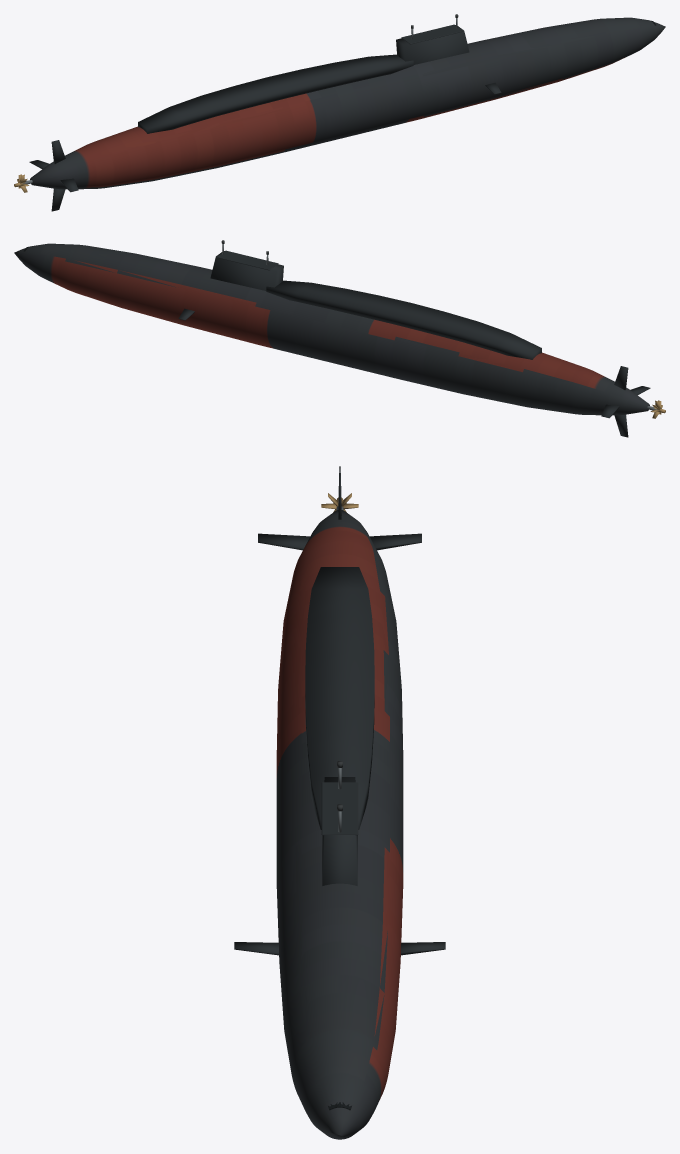
File: RU_SSBN_DeltaI_LOD2.fbx
3 views of the same model, one above another, from view 1: azimuth 30°, elevation 25°; view 2: azimuth 150°, elevation 25°; view 3: azimuth 270°, elevation 25° (orthographic). The views are drawn at different scales.
Parts seen in each view (by area): view 1: RU_SSBN_DeltaI_LOD2; view 2: RU_SSBN_DeltaI_LOD2; view 3: RU_SSBN_DeltaI_LOD2.
Part boxes in pixels (box(x1,y1,x2,y2)): RU_SSBN_DeltaI_LOD2: box(14, 14, 665, 211); RU_SSBN_DeltaI_LOD2: box(14, 240, 665, 437); RU_SSBN_DeltaI_LOD2: box(234, 466, 445, 1139).
Bounding box in the file's own units: 143 × 20.06 × 20.46.
6 materials, 1 textured.
